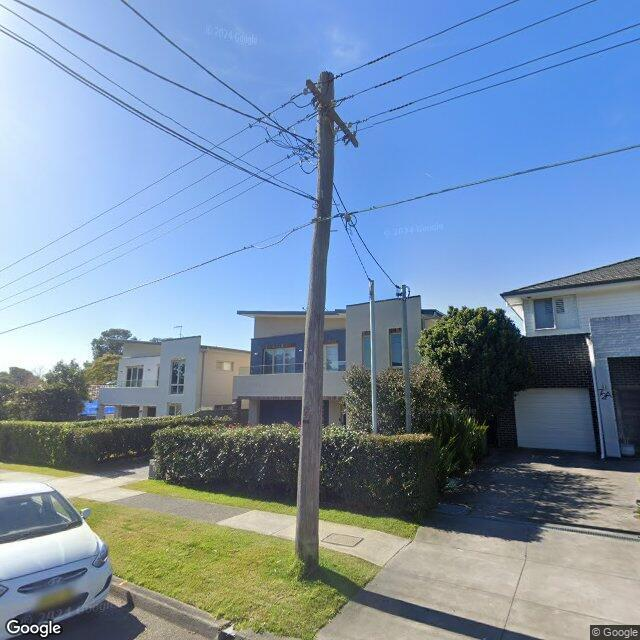crossarm: (305, 80, 358, 148)
steel-pole: (368, 278, 378, 434), (402, 284, 412, 434)
timber-pole: (294, 70, 334, 568)
